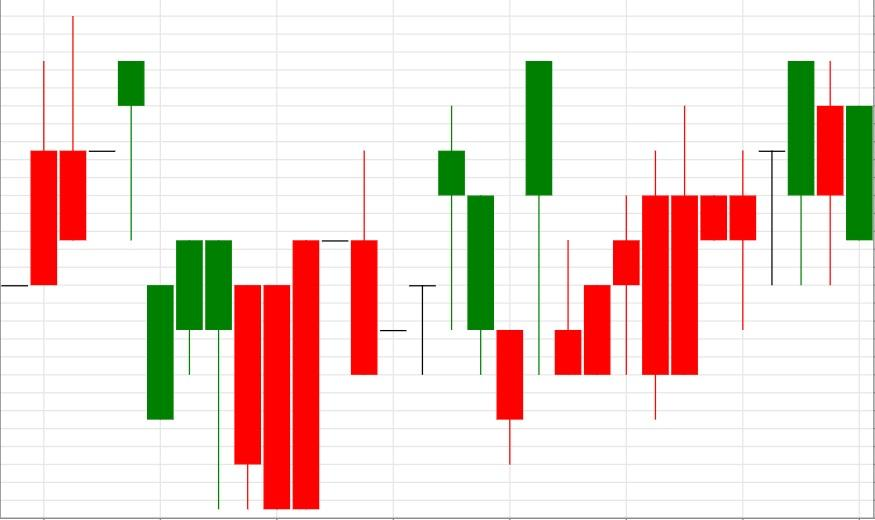hanging_man_fall: (0, 15, 145, 287)
